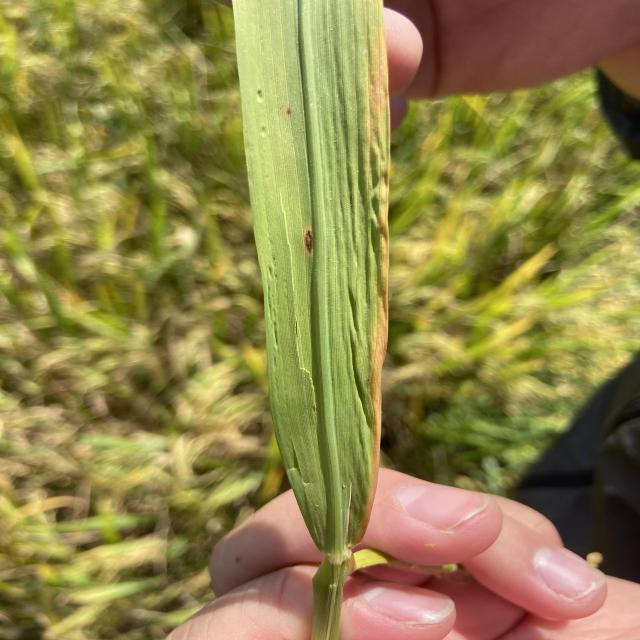Dom nau: (304, 230, 314, 254), (287, 109, 291, 115)
